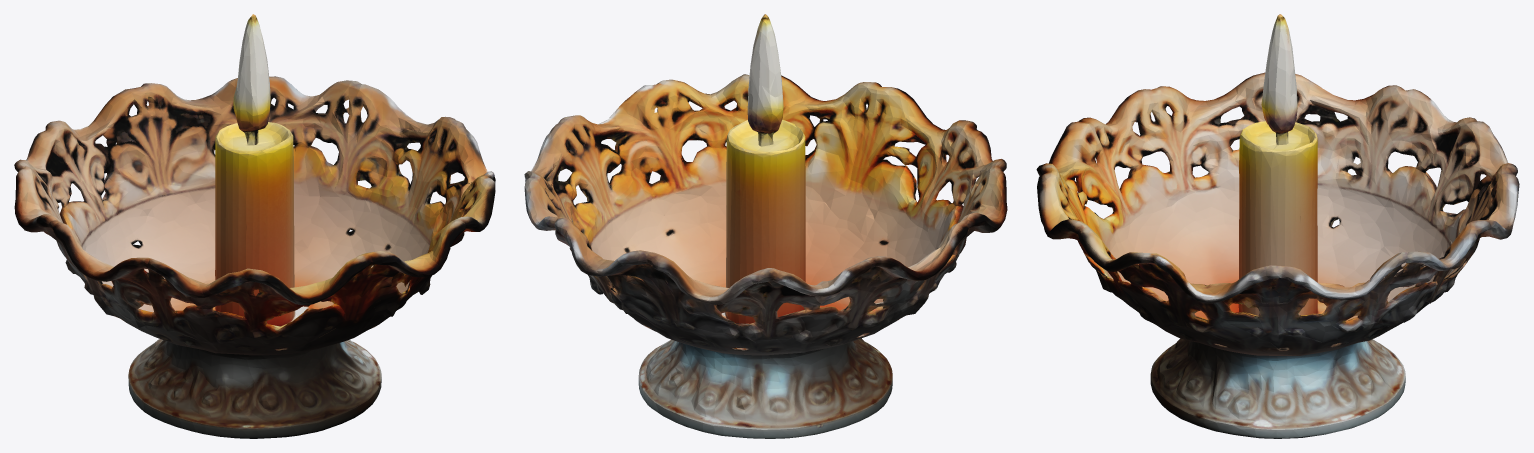
File: porcelain-candle-stand-used-rustic-worn.jpeg.glb
3 views of the same model, side by side, from view 1: azimuth 30°, elevation 25°; view 2: azimuth 150°, elevation 25°; view 3: azimuth 270°, elevation 25° (orthographic).
Parts seen in each view (by area): view 1: world; view 2: world; view 3: world.
Part boxes in pixels (x1,y1,x2,y2): world: (14,14,495,438); world: (524,14,1007,438); world: (1036,14,1519,438).
Bounding box in the file's own units: 0.9884 × 0.8555 × 0.9963.
1 material, 1 textured.
